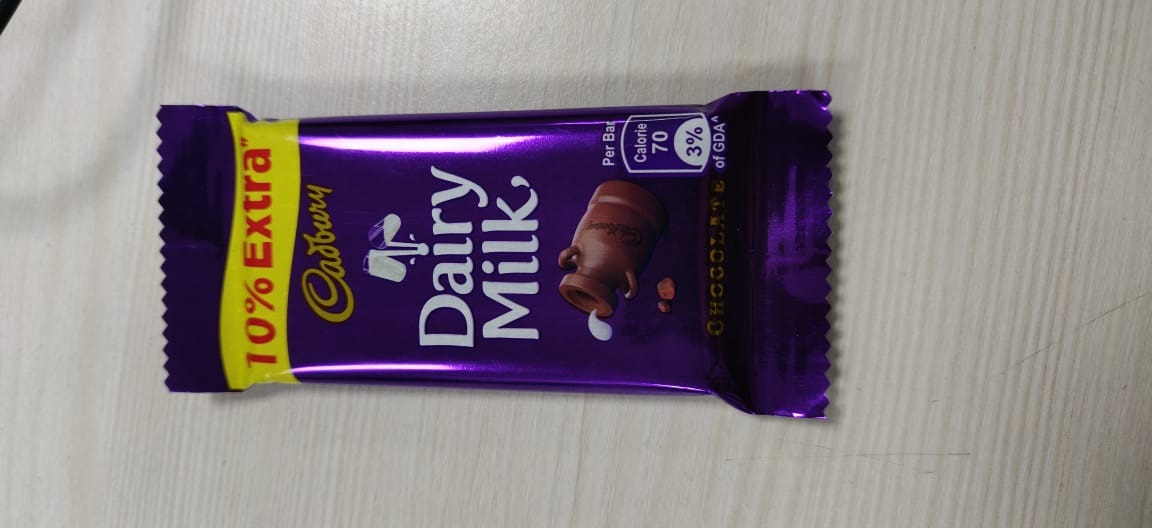dairy milk: (144, 76, 842, 432)
